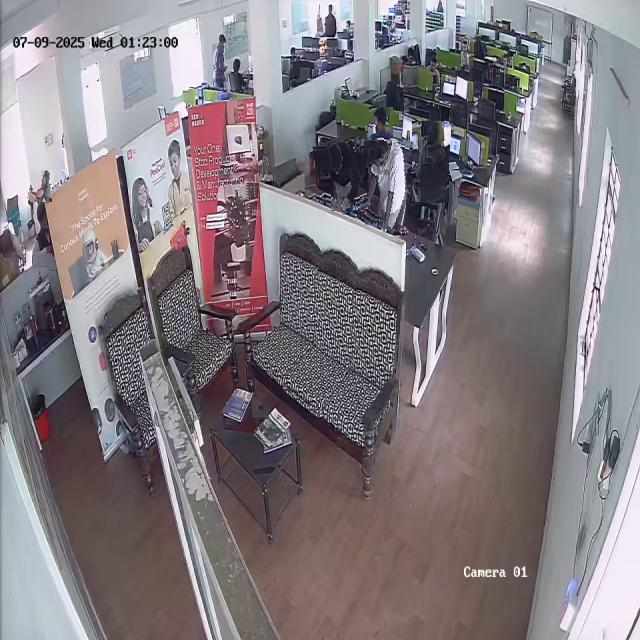person: (360, 135, 415, 230), (411, 121, 450, 202), (329, 137, 366, 212), (208, 33, 231, 90), (368, 106, 394, 141), (28, 169, 54, 203)
